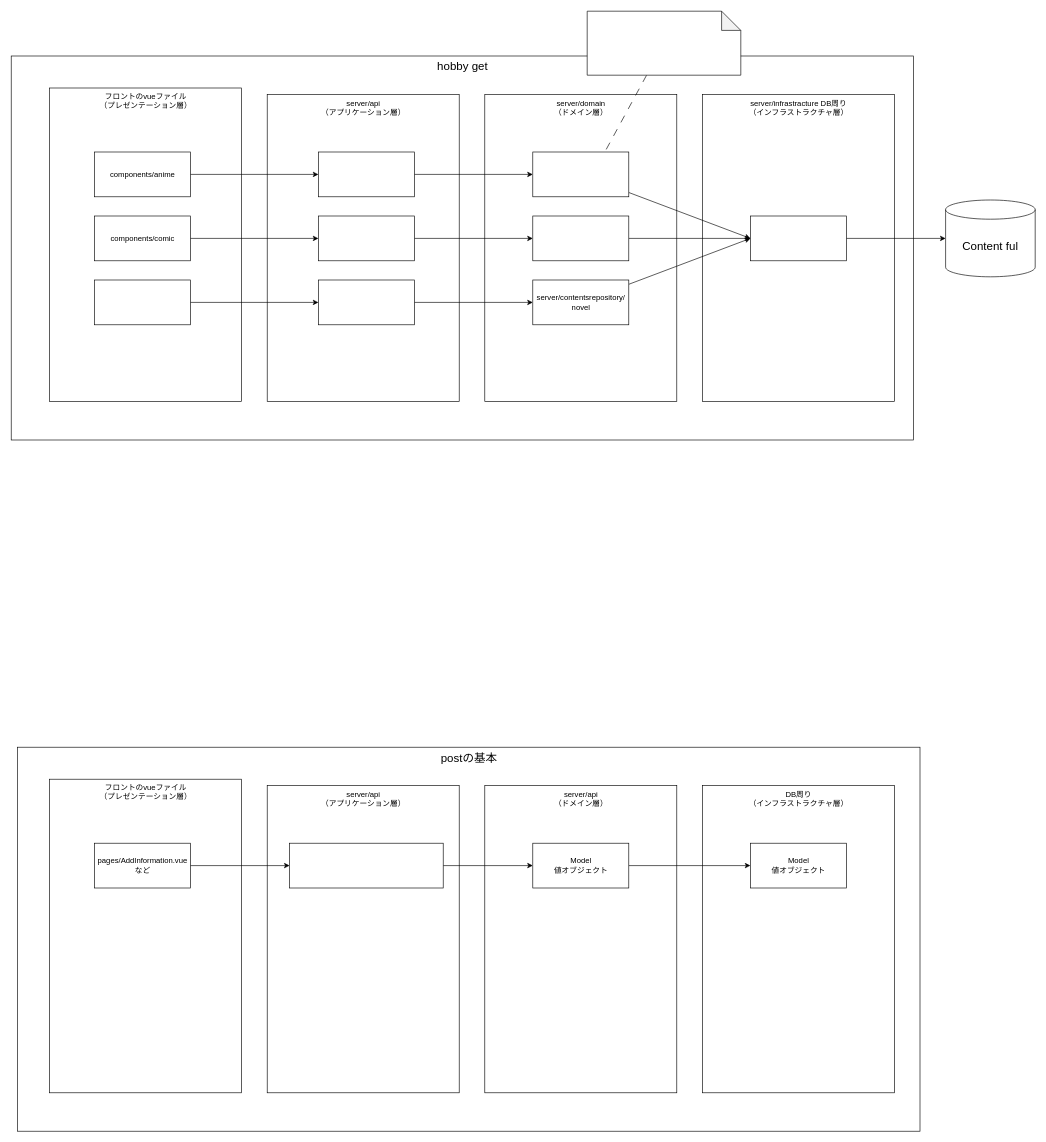
This 1046x1142 diagram has some shape labels left out. The shapes that lost their labels are listed below. From the top down, each one's centre as x and y in pixels, then its label:
At point (366, 174): "server/api/hobby/anime".
At point (580, 174): "server/contentsrepository/ anime".
At point (366, 238): "server/api/hobby/comic".
At point (580, 238): "server/contentsrepository/ comic".
At point (798, 238): "server/contentful/Get??? cmsとの通信".
At point (142, 302): "components/novel".
At point (366, 302): "server/api/hobby/novel".
At point (366, 865): "server/api/contentful/PostInformation".
